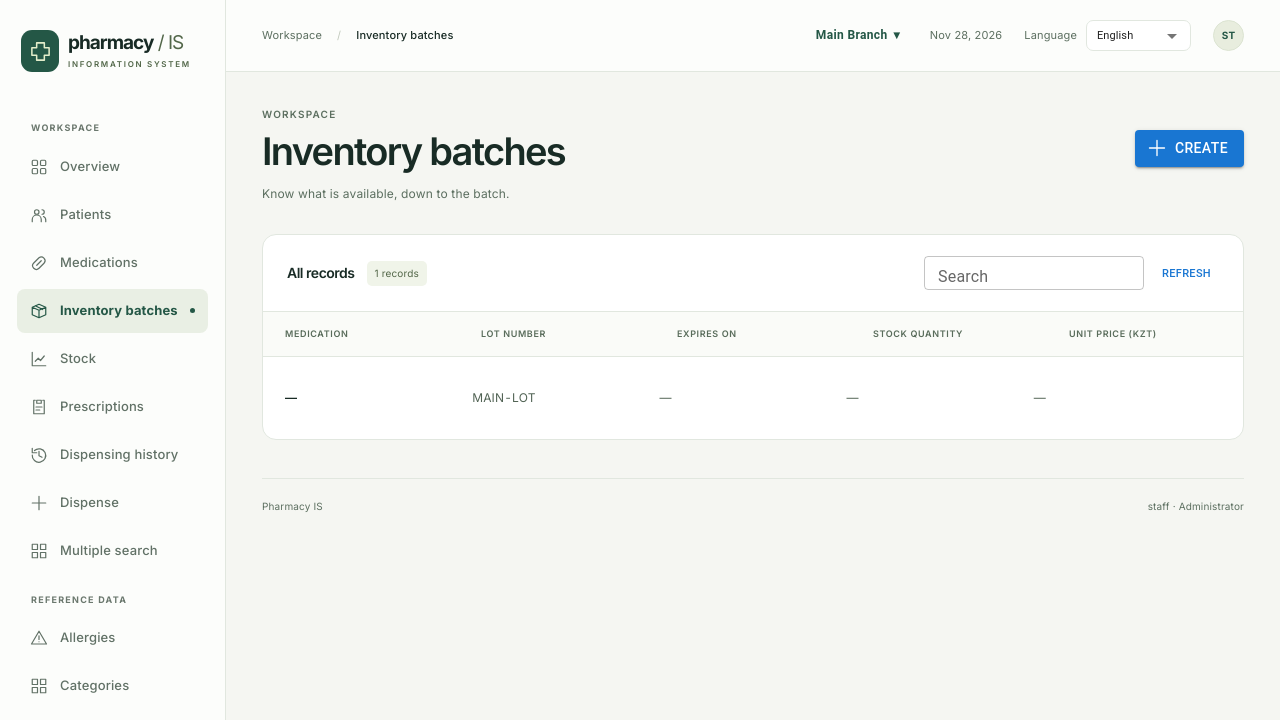
Test: admin branch switches replace visible stock and pin requests to that branch
Expected: the text "MAIN-LOT" is shown, 472,390 -> 536,405
What coordinates should you click on to do the following:
click the button "Main Branch ▾"
I would click on:
 (858, 36)
Its box is 808,14 -> 908,58.
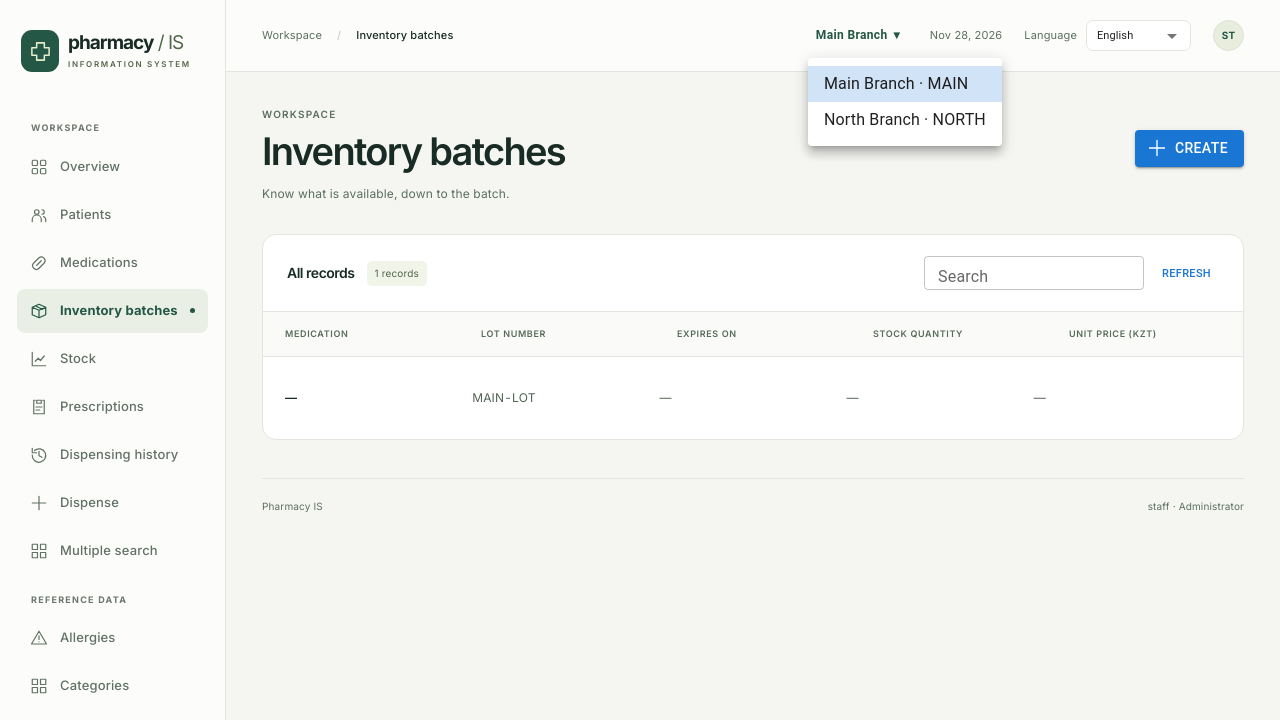
What coordinates should you click on to do the following:
click the menu item "North Branch · NORTH"
I would click on:
 (905, 120)
Its box is 824,110 -> 986,129.
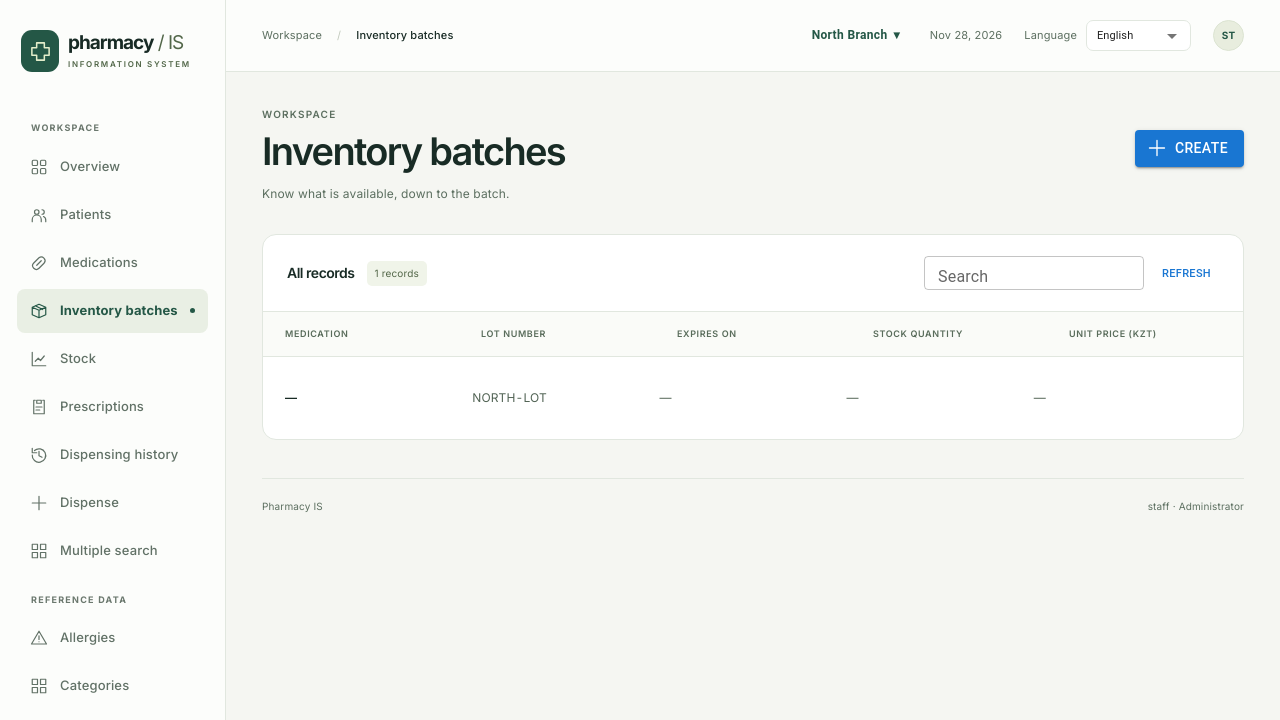
Now the text "NORTH-LOT" is shown, box 472,390 -> 547,405
Now the text "MAIN-LOT" is gone
